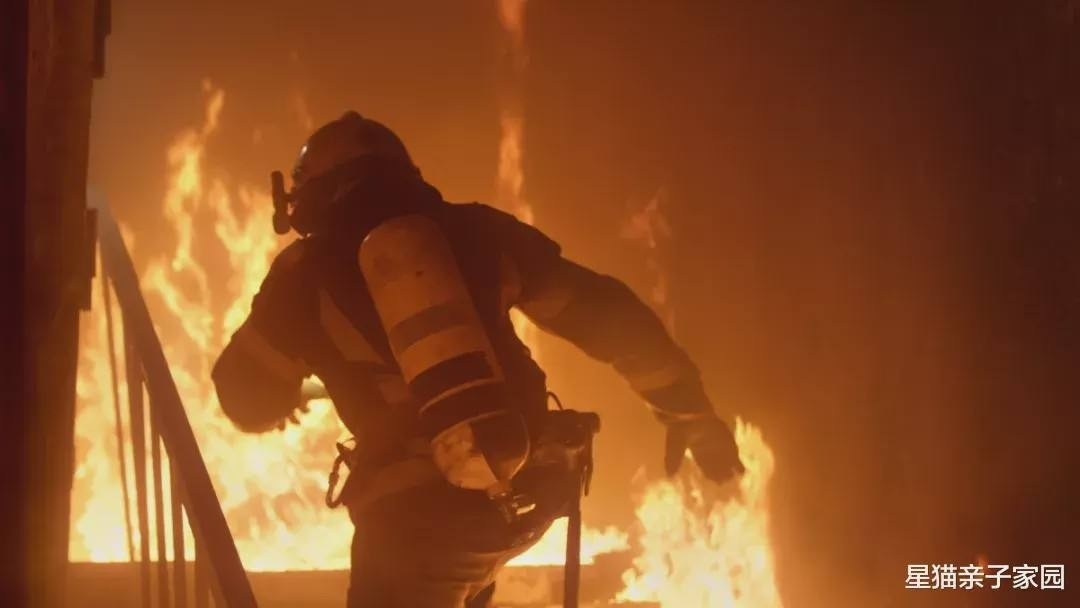fire: (72, 81, 349, 570), (597, 413, 784, 606), (510, 516, 624, 566)
